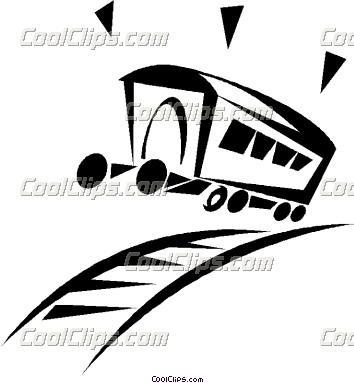train: (75, 50, 338, 226)
